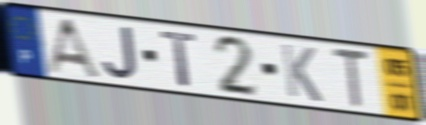2: (213, 34, 260, 100)
A: (43, 16, 104, 81)
J: (100, 23, 140, 82)
K: (278, 41, 325, 105)
T: (330, 45, 372, 110), (158, 29, 200, 90)
